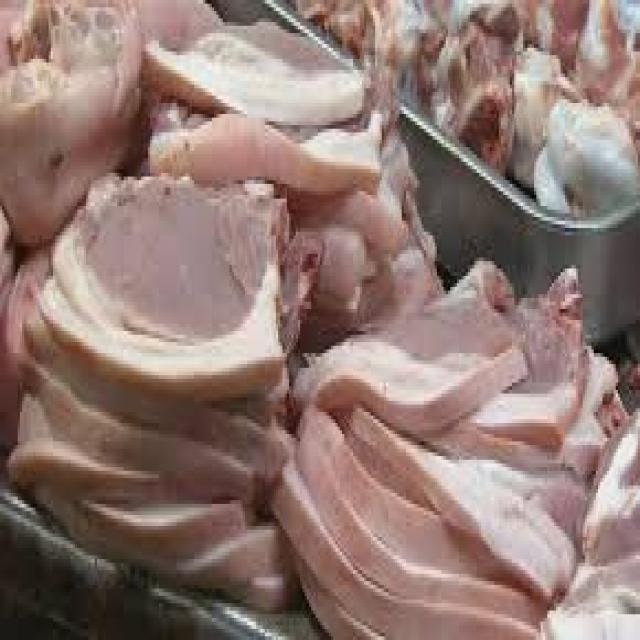pork belly: (38, 177, 285, 414), (146, 22, 366, 125)
